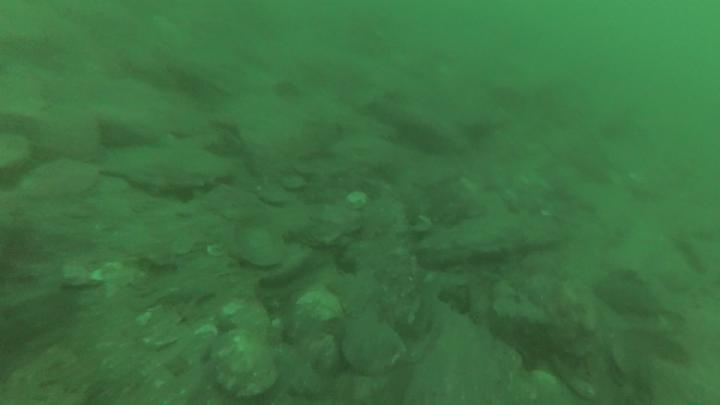scallop: (207, 329, 277, 401), (342, 320, 407, 377)
